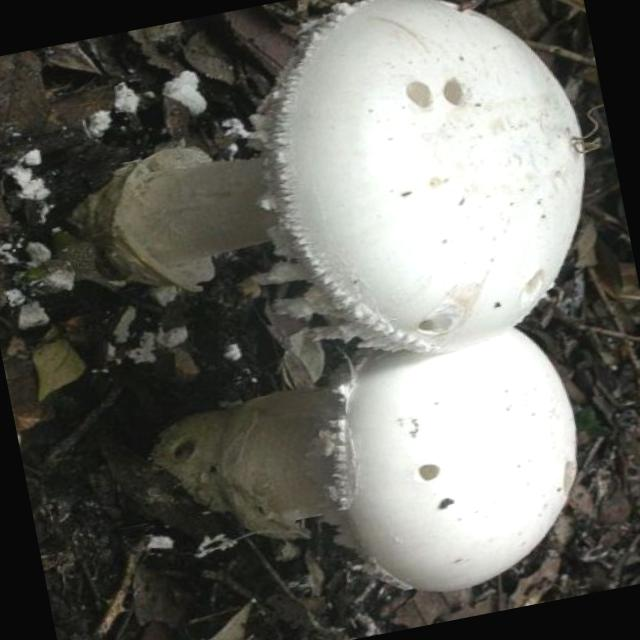Agaricus bisporus: (53, 0, 618, 411), (150, 314, 604, 640)
